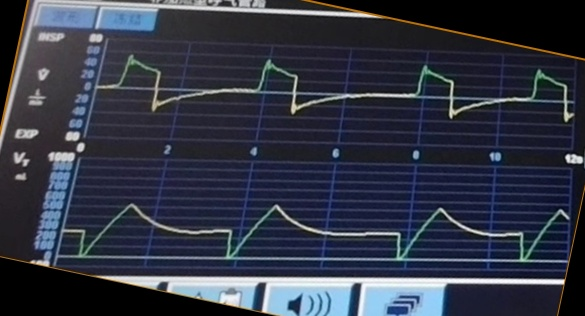Flow: (103, 53, 570, 134)
Leakage Volume: (71, 194, 565, 268)
